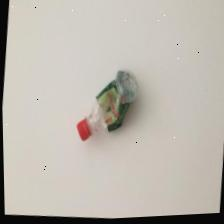plastic: (70, 62, 143, 150)
